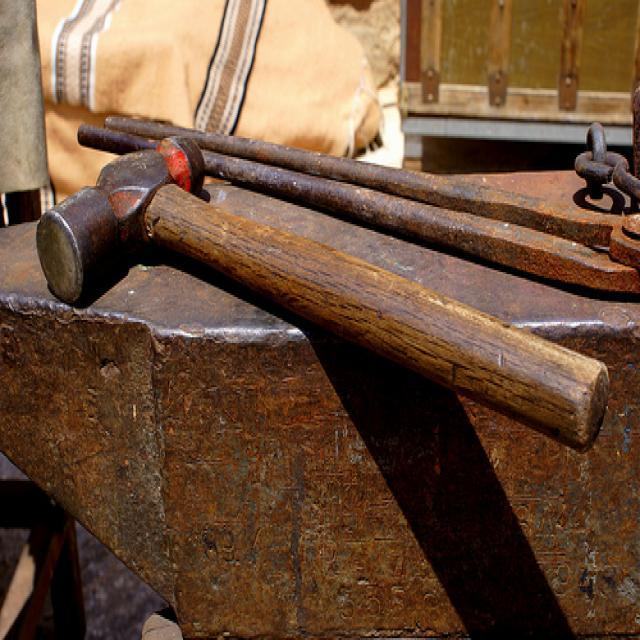hammer: (27, 127, 610, 456)
